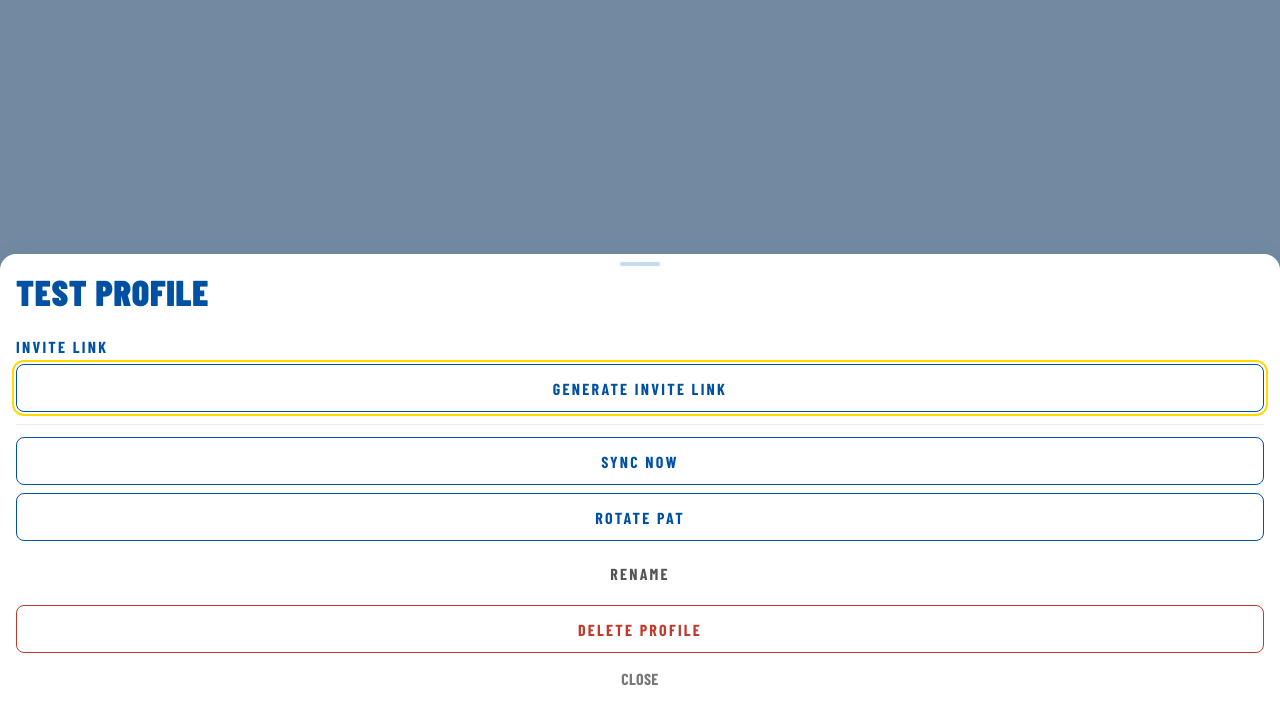
ProfileDrawer poll-until-terminal › Test 2: poll ending in failed surfaces the sheet-error
Click the button "SYNC NOW" at (640, 461), box x1=16 y1=437 x2=1264 y2=485
Wait 2600 ms
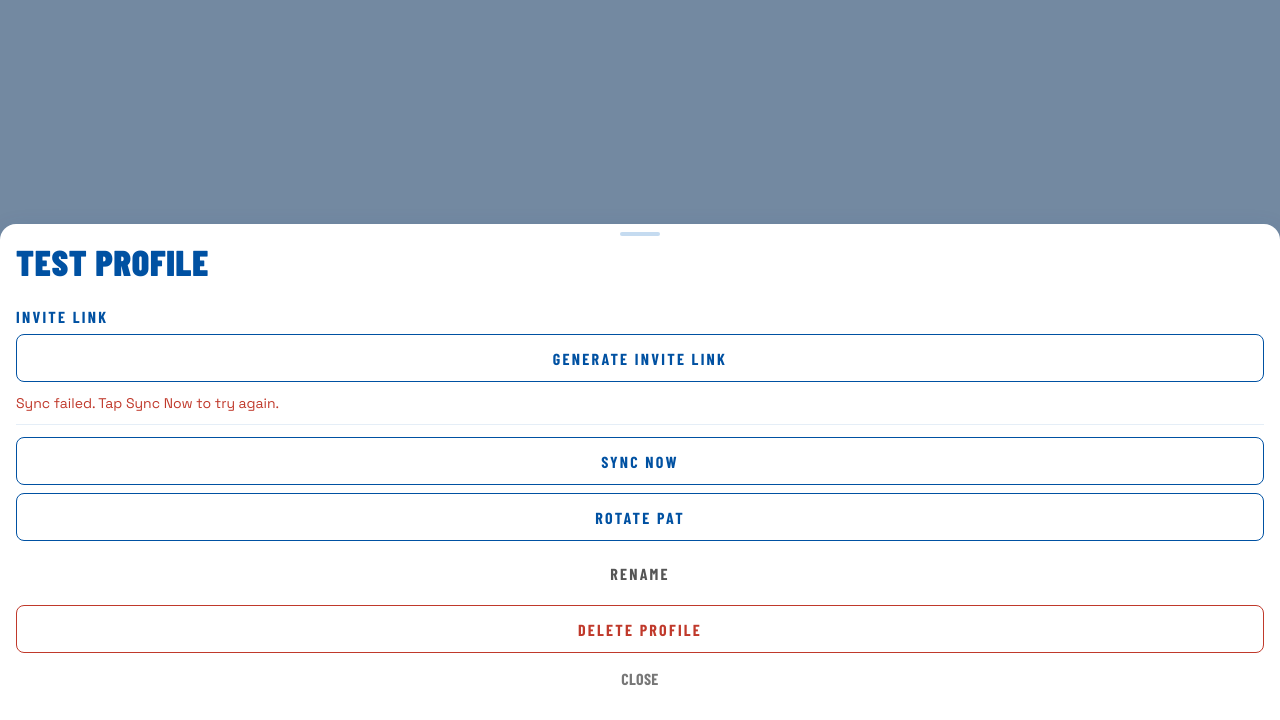
Result: the text "Sync failed. Tap Sync Now to try again." is shown at x1=16 y1=394 x2=279 y2=412
